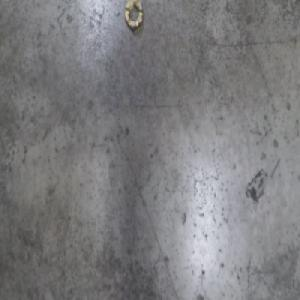Nut: (123, 0, 143, 34)
